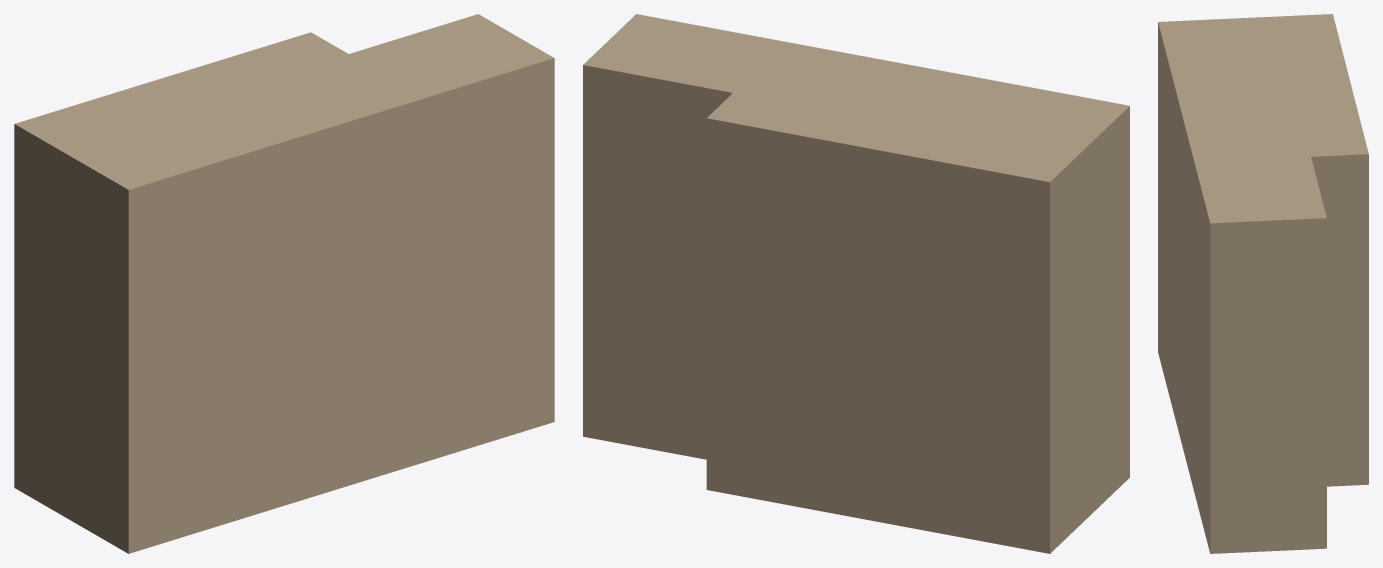
The model's file is bld_101572499.dae.
The picture shows the model from 3 angles, left to right: view 1: azimuth 30°, elevation 25°; view 2: azimuth 150°, elevation 25°; view 3: azimuth 270°, elevation 25°; orthographic projection. The views are drawn at different scales.
Parts seen in each view (by area): view 1: bld_101572499; view 2: bld_101572499; view 3: bld_101572499.
Boxes of the visible parts, x1,y1,x2,y2 form: bld_101572499: (14, 14, 554, 553); bld_101572499: (583, 14, 1129, 553); bld_101572499: (1158, 14, 1368, 553).
Bounding box in the file's own units: 10.87 × 4.62 × 8.
